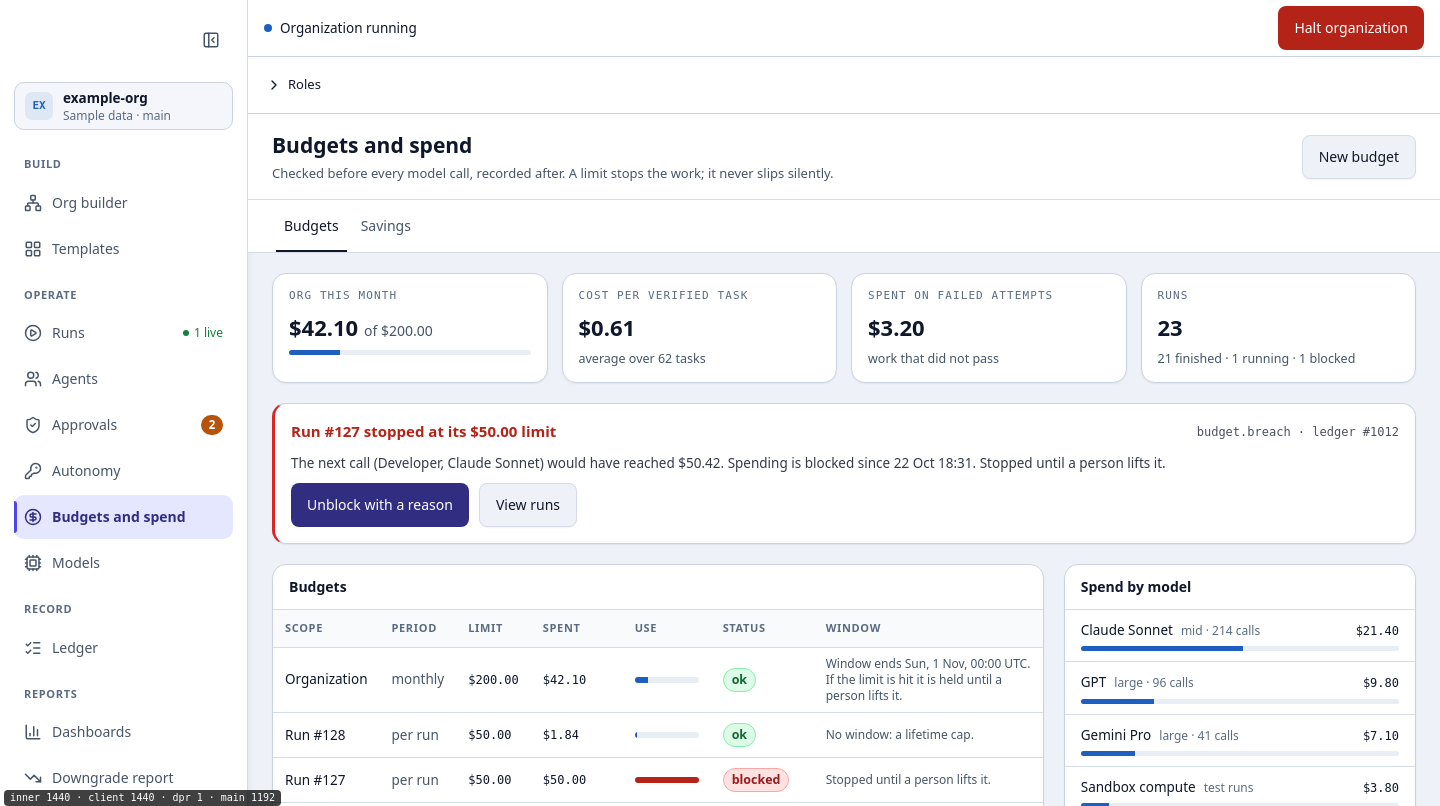
Test: Budgets and spend › unblocks with a reason: the breach card goes, the ledger entry is named, the table agrees
Click the button "Unblock with a reason": (380, 505) [291,483,469,527]
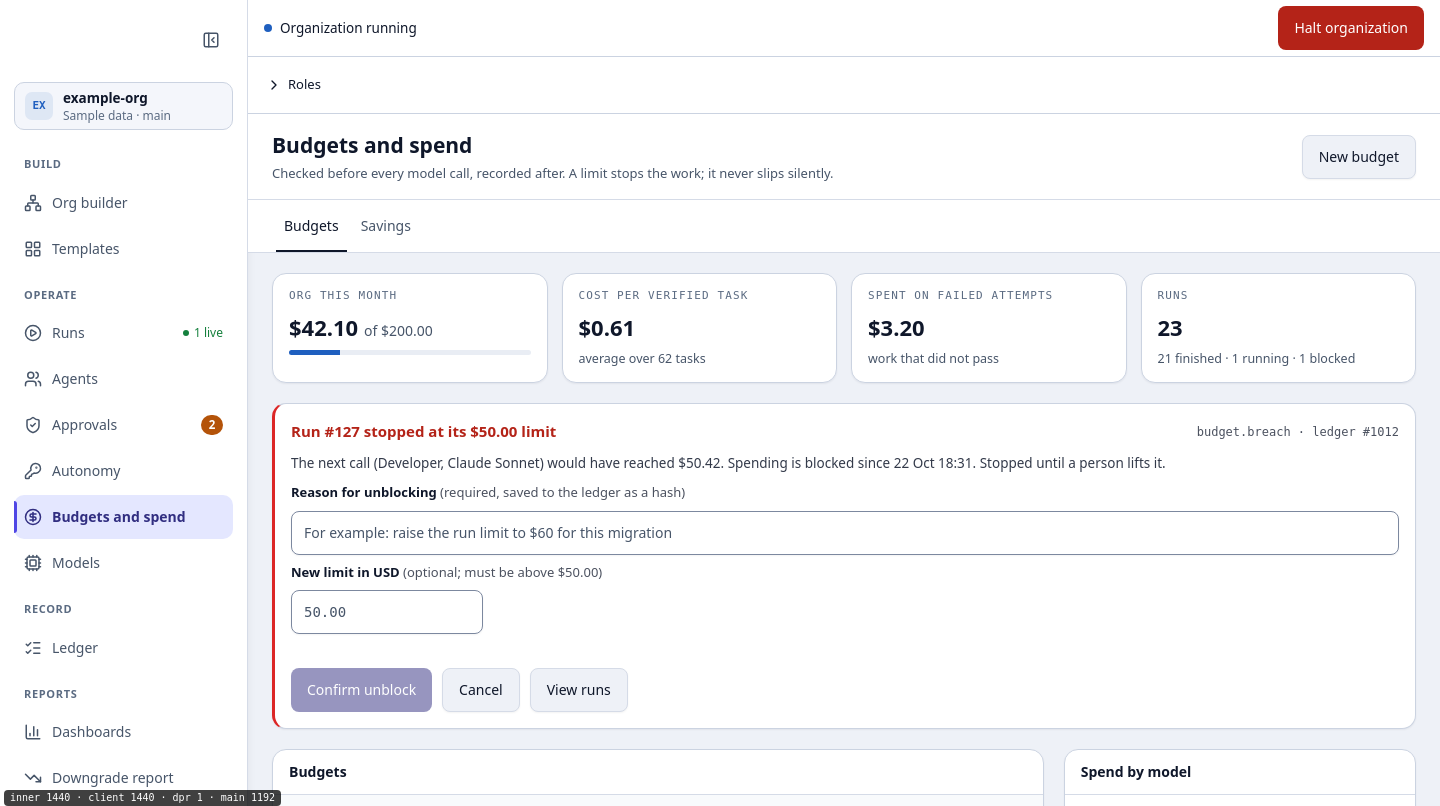
In the field labelled "Reason for unblocking": (845, 532) [291,510,1399,554], type "Approved by finance"
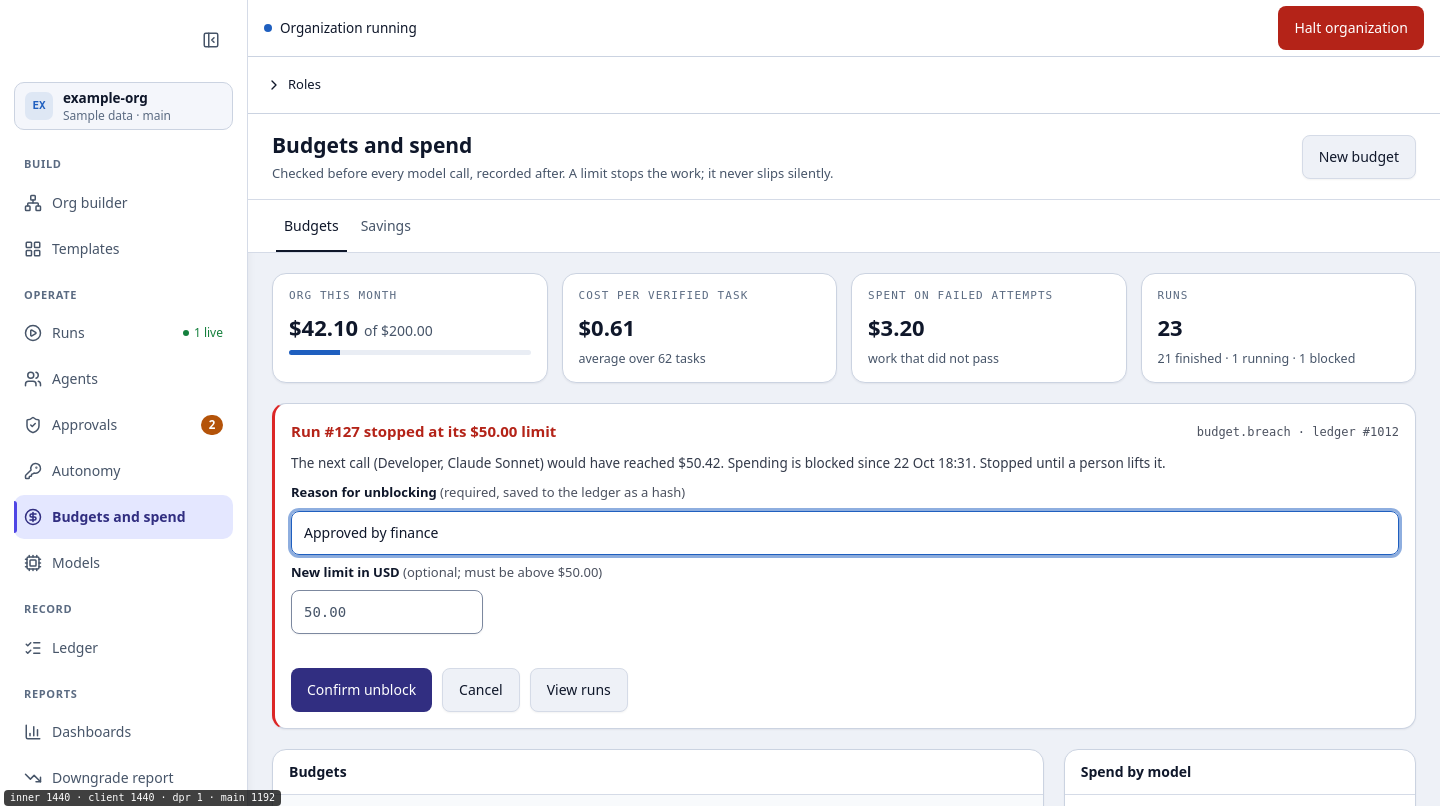
In the field labelled "New limit in USD (optional; must be above $50.00)": (387, 612) [291,590,483,634], type "60.00"
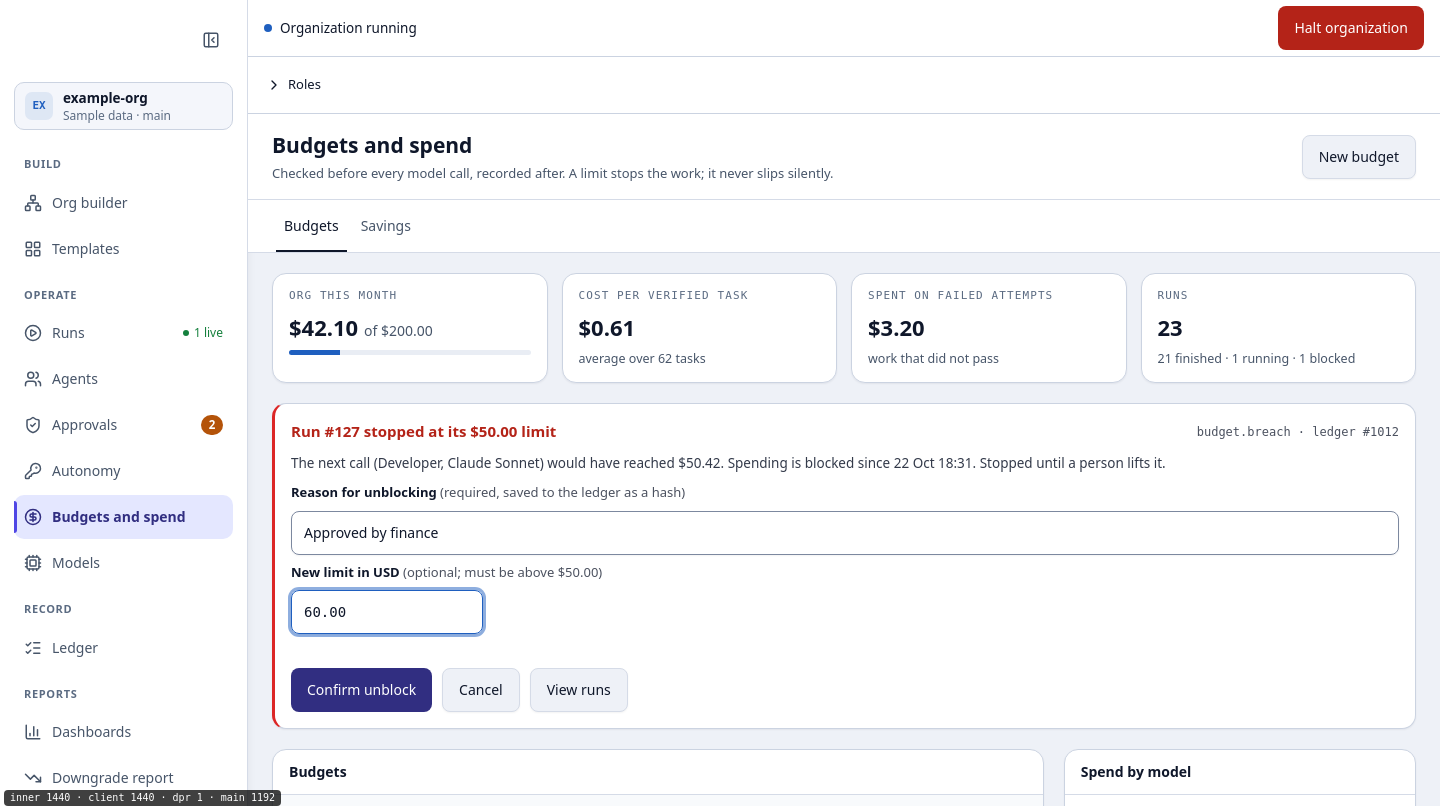
Click the button "Confirm unblock": (362, 690) [291,668,432,712]
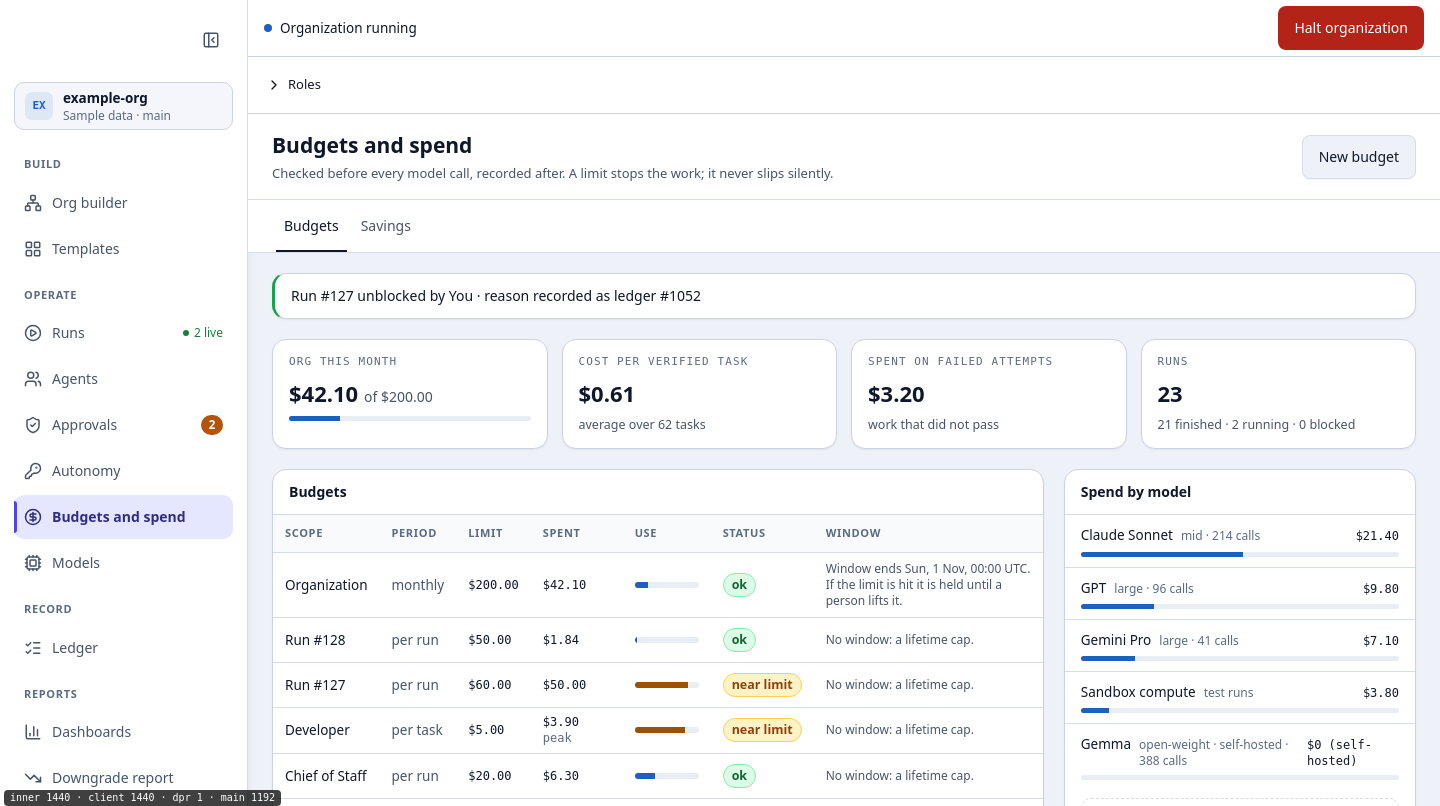
Expected: the button "Unblock with a reason" is not shown
Now the text "Run #127 unblocked by You · reason recorded as ledger #1052" is shown, box [272,273,1416,319]
Now the text "$60.00" is shown, box [456,662,531,708]
